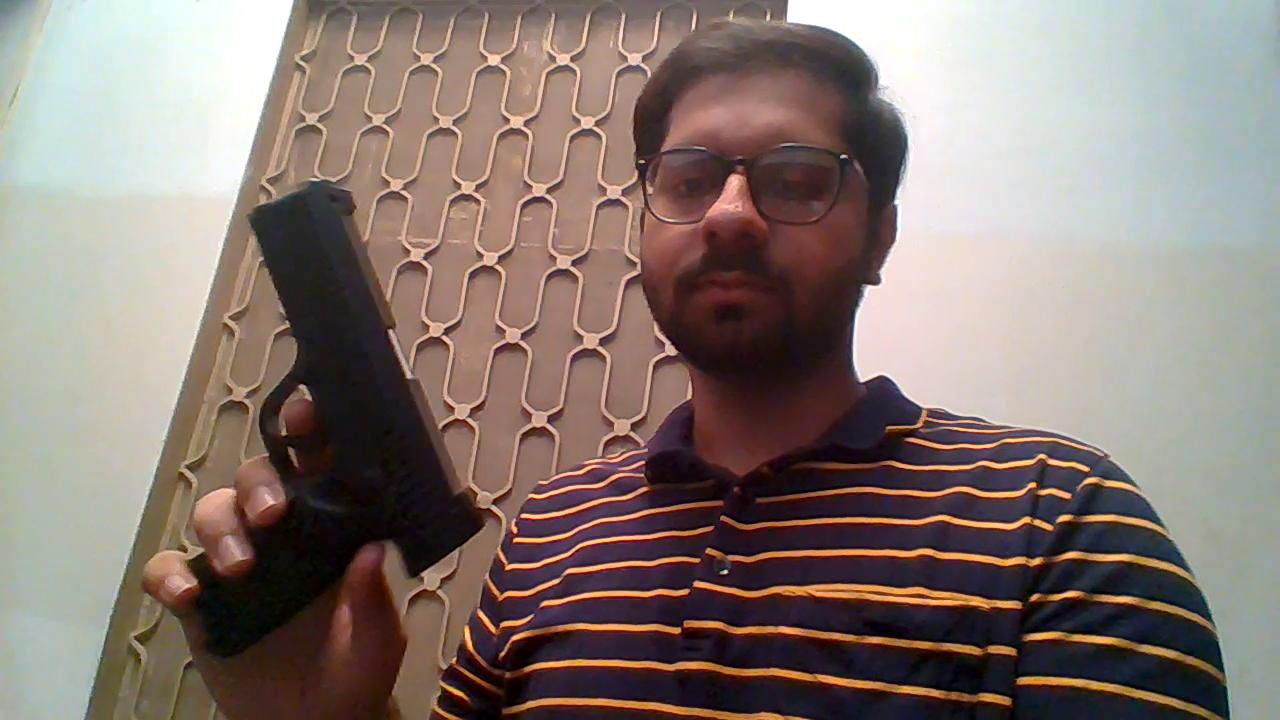criminal: (143, 20, 1228, 720)
weapon: (183, 179, 488, 656)
